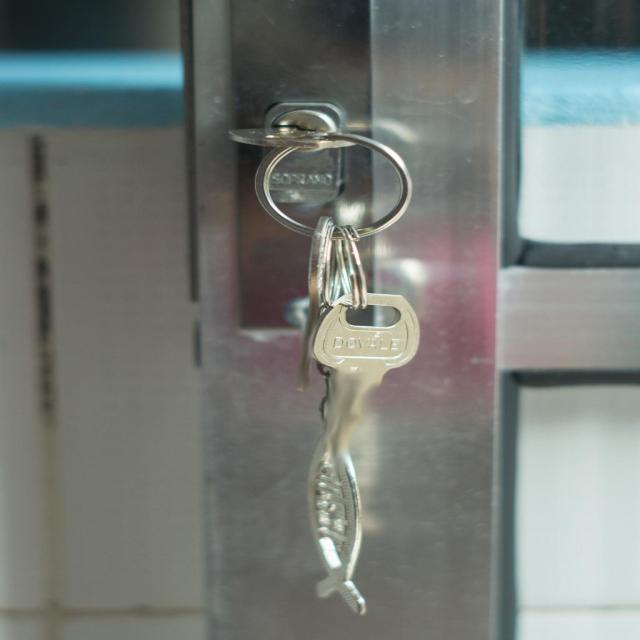Frontdoor keys: (291, 290, 433, 508), (208, 105, 387, 179)
